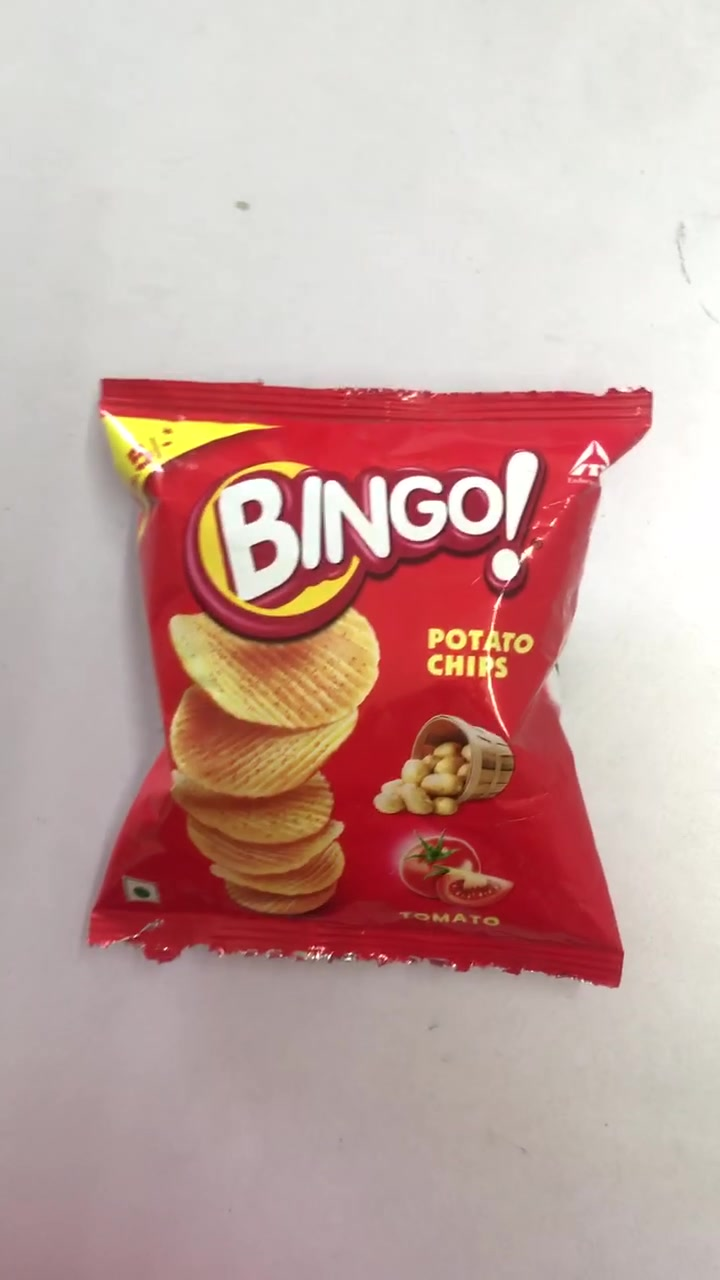Bingo: (98, 378, 649, 989)
